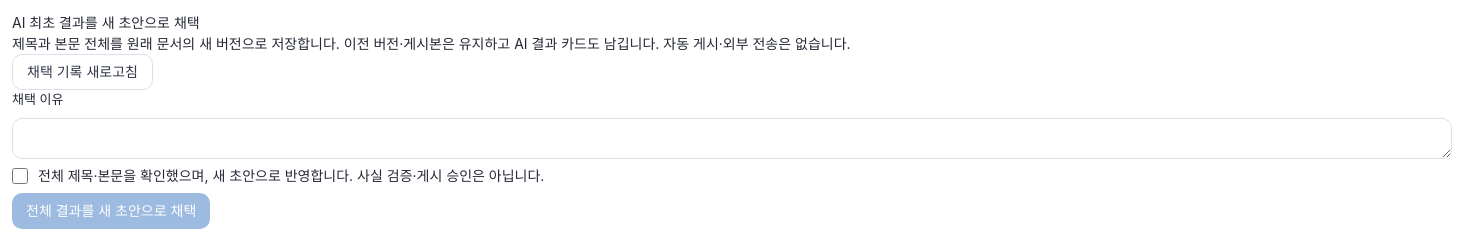
Test: 내용 확인과 이유가 있어야 버전·처리 revision에 묶어 채택한다
Expected: the button "전체 결과를 새 초안으로 채택" is disabled, 12,193 -> 210,229
Type "synthetic adoption" into the text box labelled "채택 이유".
click(732, 138); type("synthetic adoption")  # box 12,118 -> 1452,158
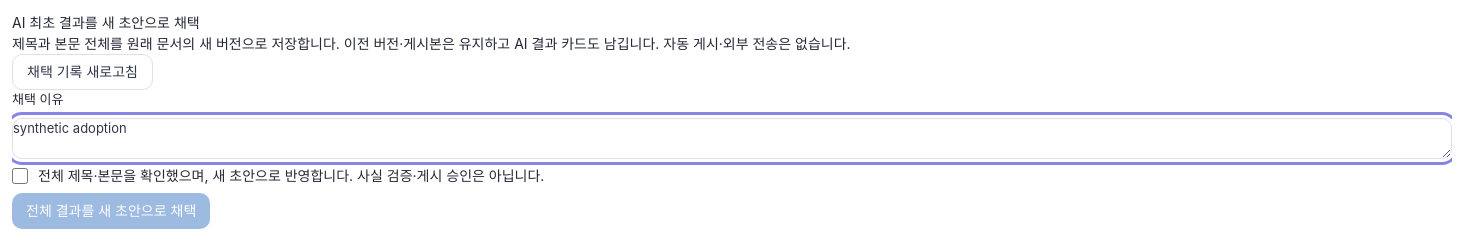
Expected: the button "전체 결과를 새 초안으로 채택" is disabled, 12,193 -> 210,229
Click the checkbox.
click(20, 176)  # box 12,168 -> 28,184
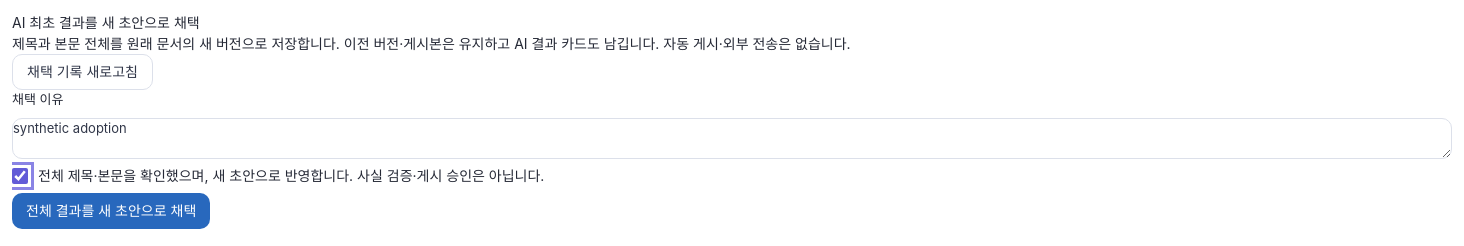
Click the button "전체 결과를 새 초안으로 채택".
click(111, 211)  # box 12,193 -> 210,229
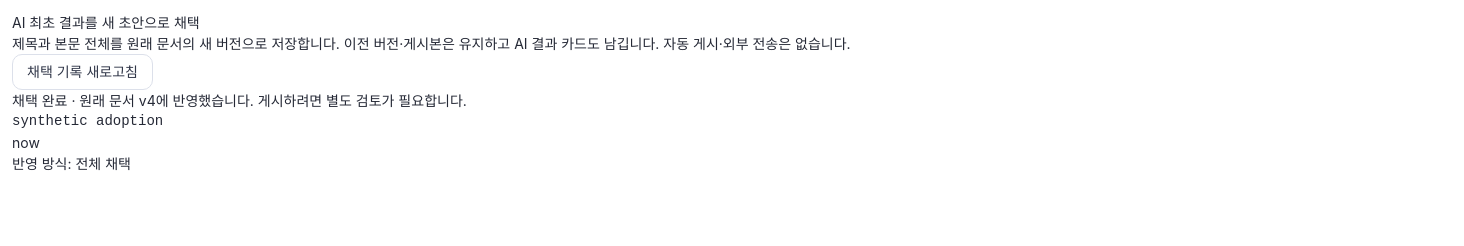
Expected: the text "채택 완료 · 원래 문서 v4에 반영했습니다. 게시하려면 별도 검토가 필요합니다." is shown, 12,92 -> 467,109
